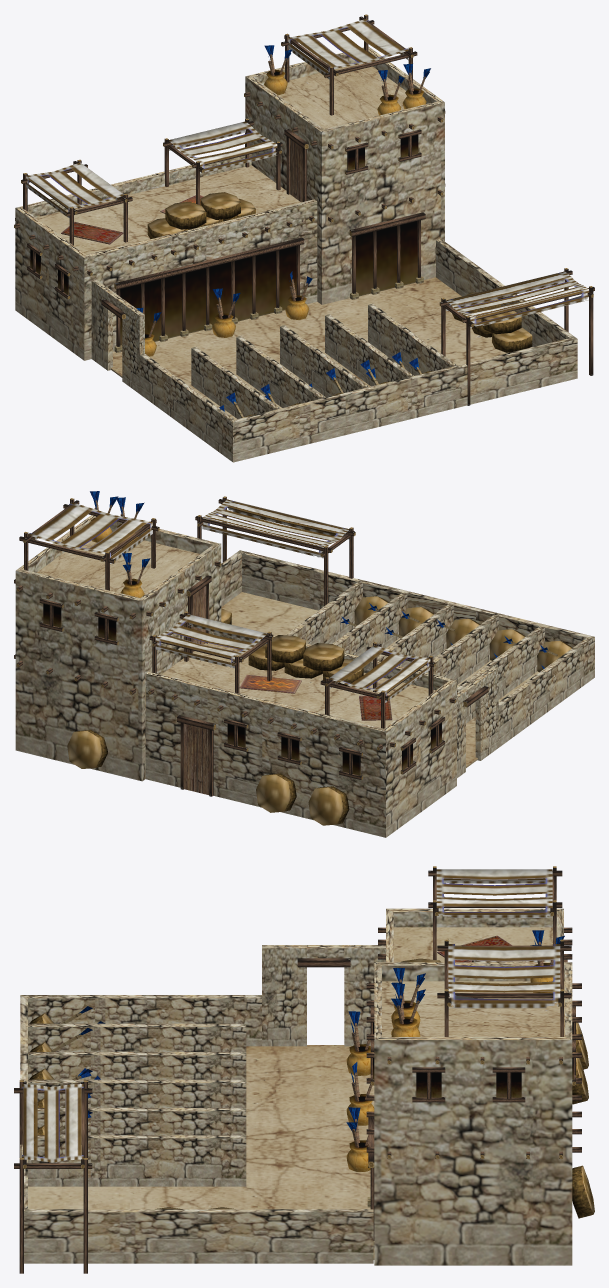
File: range.dae
3 renders of one model, top to bottom at view 1: azimuth 30°, elevation 25°; view 2: azimuth 150°, elevation 25°; view 3: azimuth 270°, elevation 25°, orthographic. The views are drawn at different scales.
Parts seen in each view (by area): view 1: range; view 2: range; view 3: range.
Boxes of the visible parts, x1=… form: range: x1=14, y1=14, x2=594, y2=462; range: x1=14, y1=491, x2=594, y2=837; range: x1=14, y1=866, x2=594, y2=1273.
Size of the model in its own units: 24.8 by 25.72 by 13.31.
